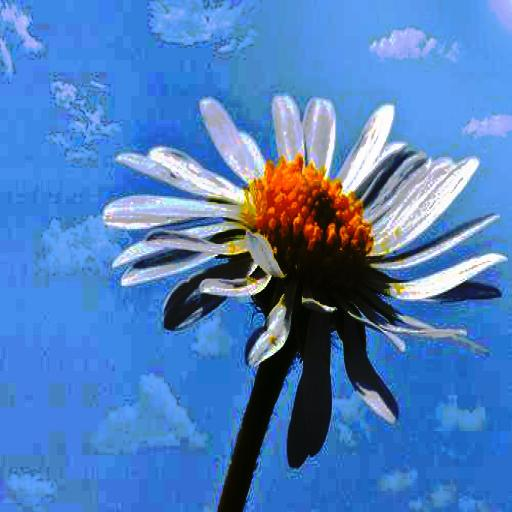daisy: (104, 91, 486, 352)
